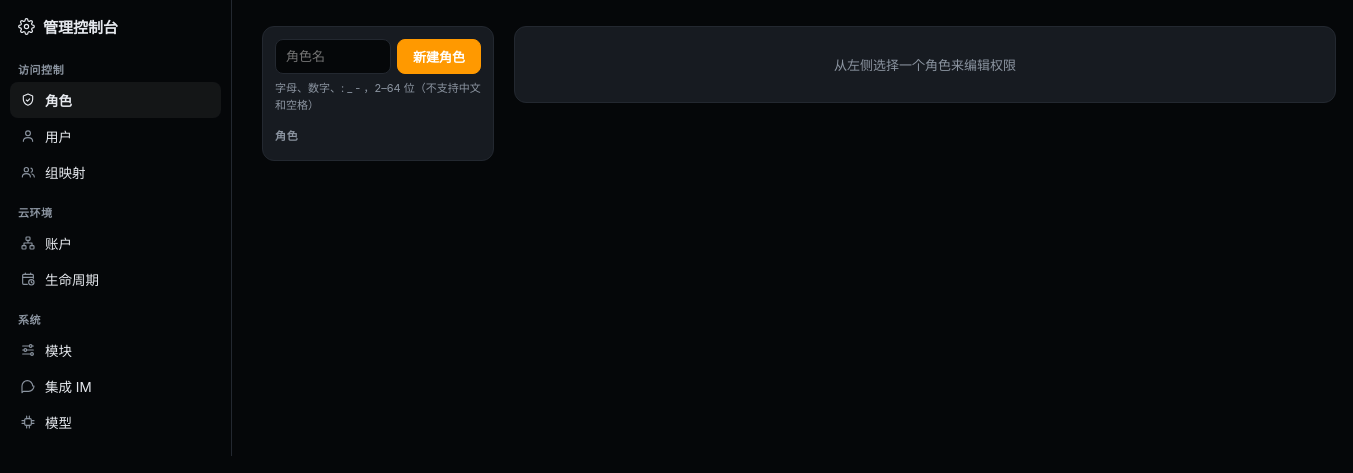
Test: 用户列表：两步验证一列 + 重置 › 「关闭」档：整列不显示、没有重置按钮
Click the button with class "notif-navitem" showing "用户" at (116, 136), box [10, 118, 221, 154]
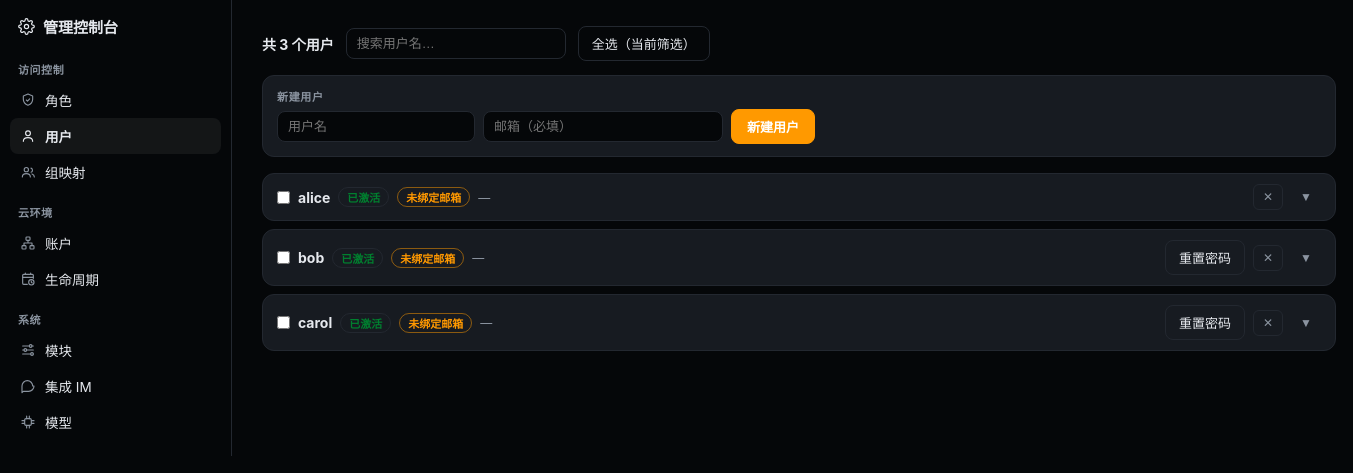
Expected: the text "bob" is shown, [298, 249, 324, 266]
